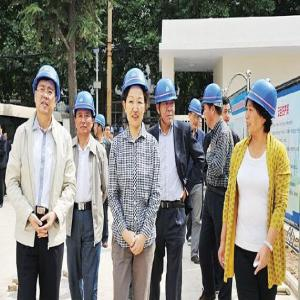blue: (247, 79, 278, 139), (123, 68, 150, 132), (33, 66, 60, 120), (154, 75, 180, 127), (202, 82, 224, 130), (74, 92, 96, 138), (189, 98, 202, 131), (94, 114, 107, 139)
none: (222, 96, 232, 124)
